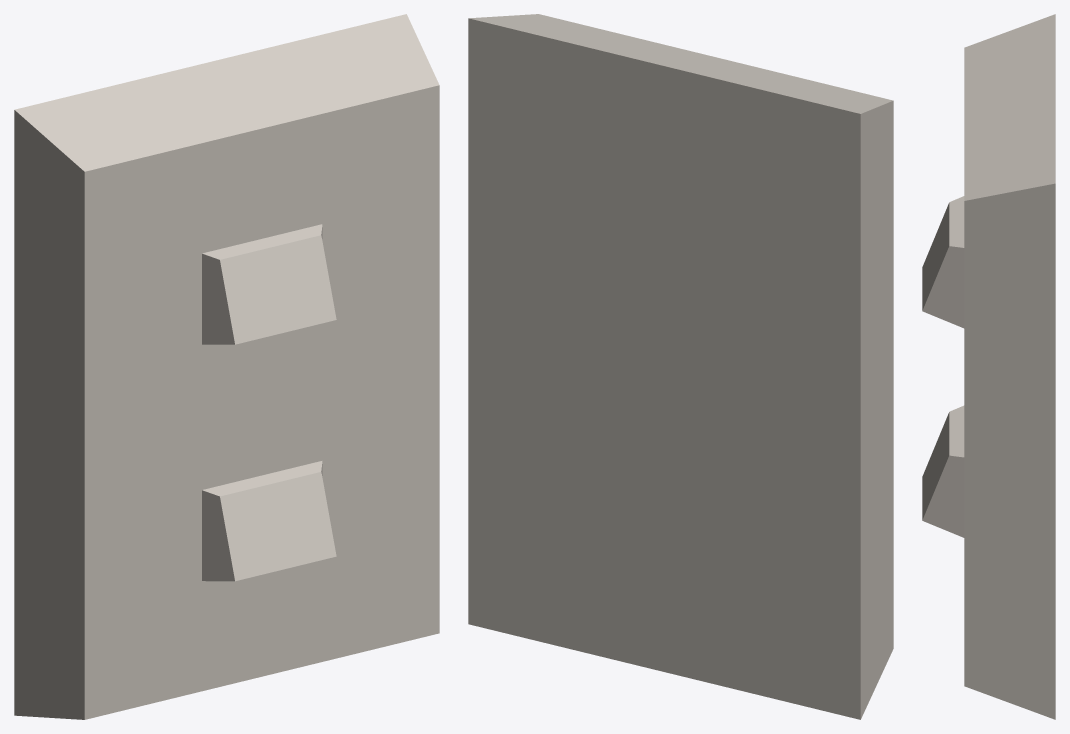
File: SM_Prop_Lightswitch_02.fbx
3 renders of one model, left to right at view 1: azimuth 30°, elevation 25°; view 2: azimuth 150°, elevation 25°; view 3: azimuth 270°, elevation 25°, orthographic. The views are drawn at different scales.
Visible parts, largest first — view 1: SM_Prop_Lightswitch_02; view 2: SM_Prop_Lightswitch_02; view 3: SM_Prop_Lightswitch_02.
Boxes of the visible parts, x1=… form: SM_Prop_Lightswitch_02: x1=14, y1=14, x2=439, y2=719; SM_Prop_Lightswitch_02: x1=468, y1=14, x2=893, y2=719; SM_Prop_Lightswitch_02: x1=922, y1=14, x2=1055, y2=719.
Size of the model in its own units: 12.07 by 17.81 by 4.02.
